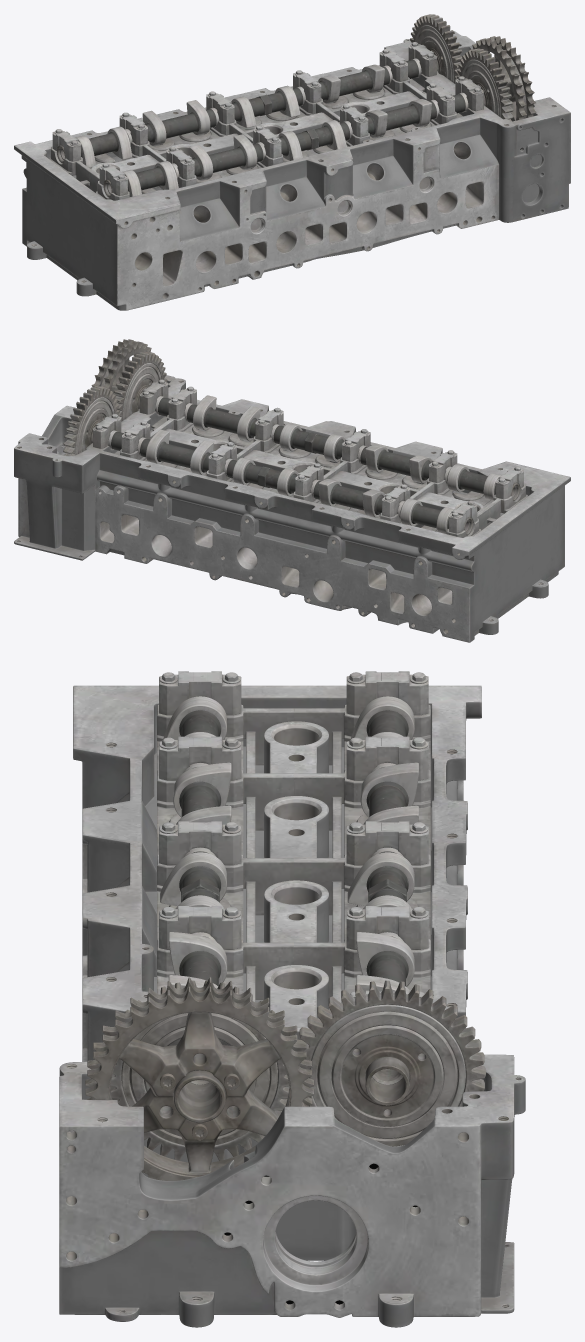
File: engineComponent_cylinder_head_a01.glb
3 views of the same model, one above another, from view 1: azimuth 30°, elevation 25°; view 2: azimuth 150°, elevation 25°; view 3: azimuth 270°, elevation 25° (orthographic). The views are drawn at different scales.
Visible parts, largest first — view 1: body_01_mesh_00, body_02_mesh_00, body_03_mesh_00; view 2: body_01_mesh_00, body_02_mesh_00, body_03_mesh_00; view 3: body_01_mesh_00, body_02_mesh_00, body_03_mesh_00.
Part boxes in pixels (x1,y1,x2,y2): body_01_mesh_00: (14, 31, 570, 310); body_02_mesh_00: (122, 36, 536, 196); body_03_mesh_00: (75, 14, 462, 167); body_01_mesh_00: (14, 375, 570, 642); body_02_mesh_00: (91, 339, 501, 500); body_03_mesh_00: (63, 386, 454, 534); body_01_mesh_00: (59, 671, 525, 1327); body_02_mesh_00: (85, 696, 314, 1180); body_03_mesh_00: (296, 696, 485, 1146).
Bounding box in the file's own units: 0.6631 × 0.202 × 0.2851.
3 materials, 3 textured.
